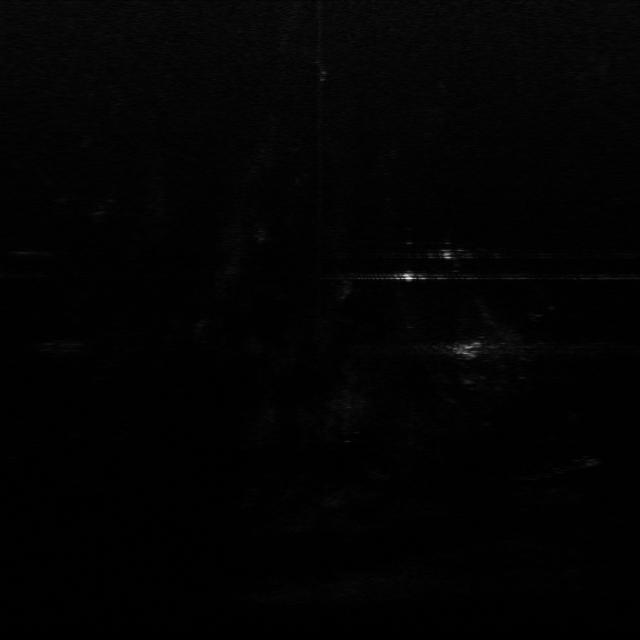rov: (452, 338, 488, 362)
